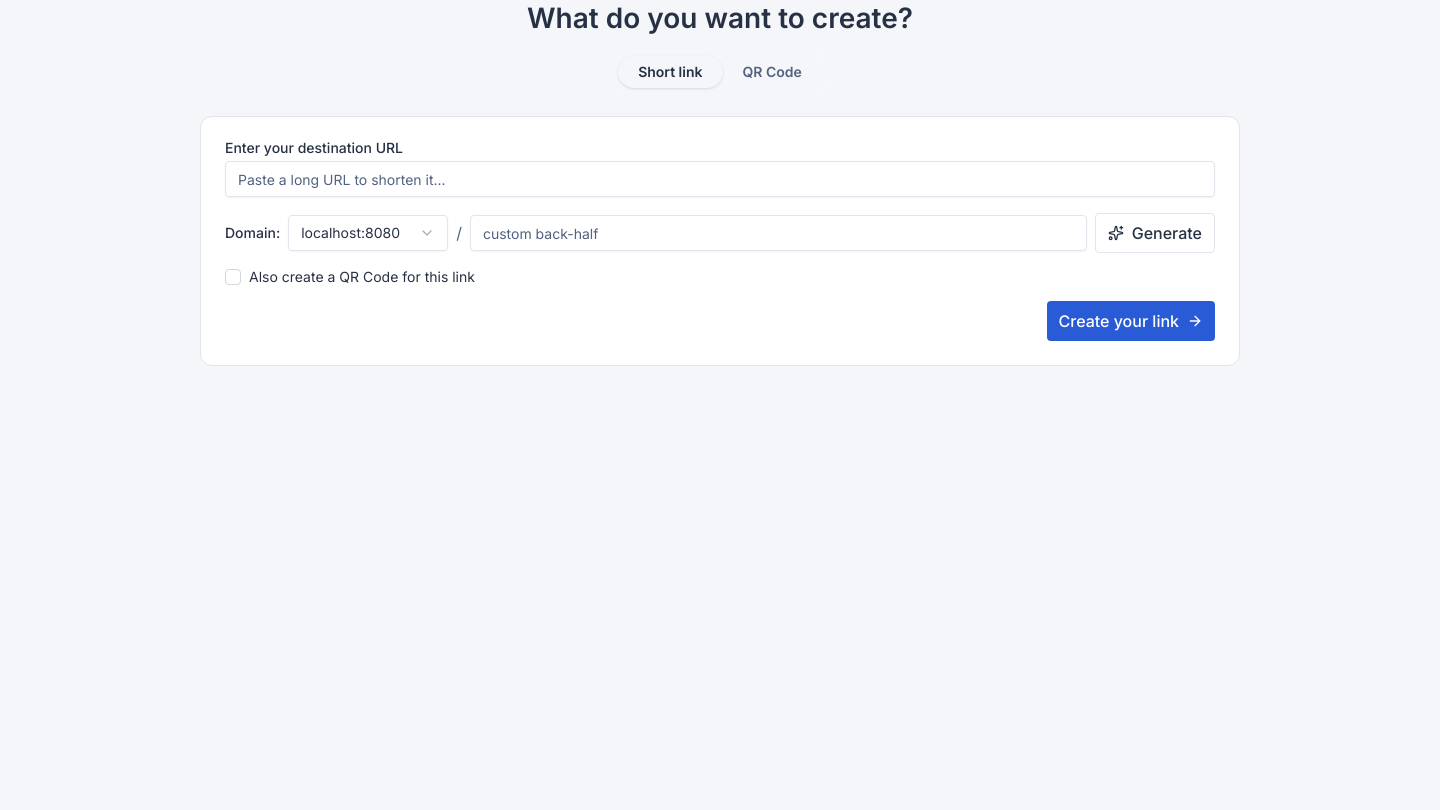
Test: QuickCreate › QR Code mode sends share_as_link when Also create a link is checked, Enter submits
The width and height of the screenshot is (1440, 810).
Click the radio button labelled "QR Code" at (772, 72), box [722,56,822,88]
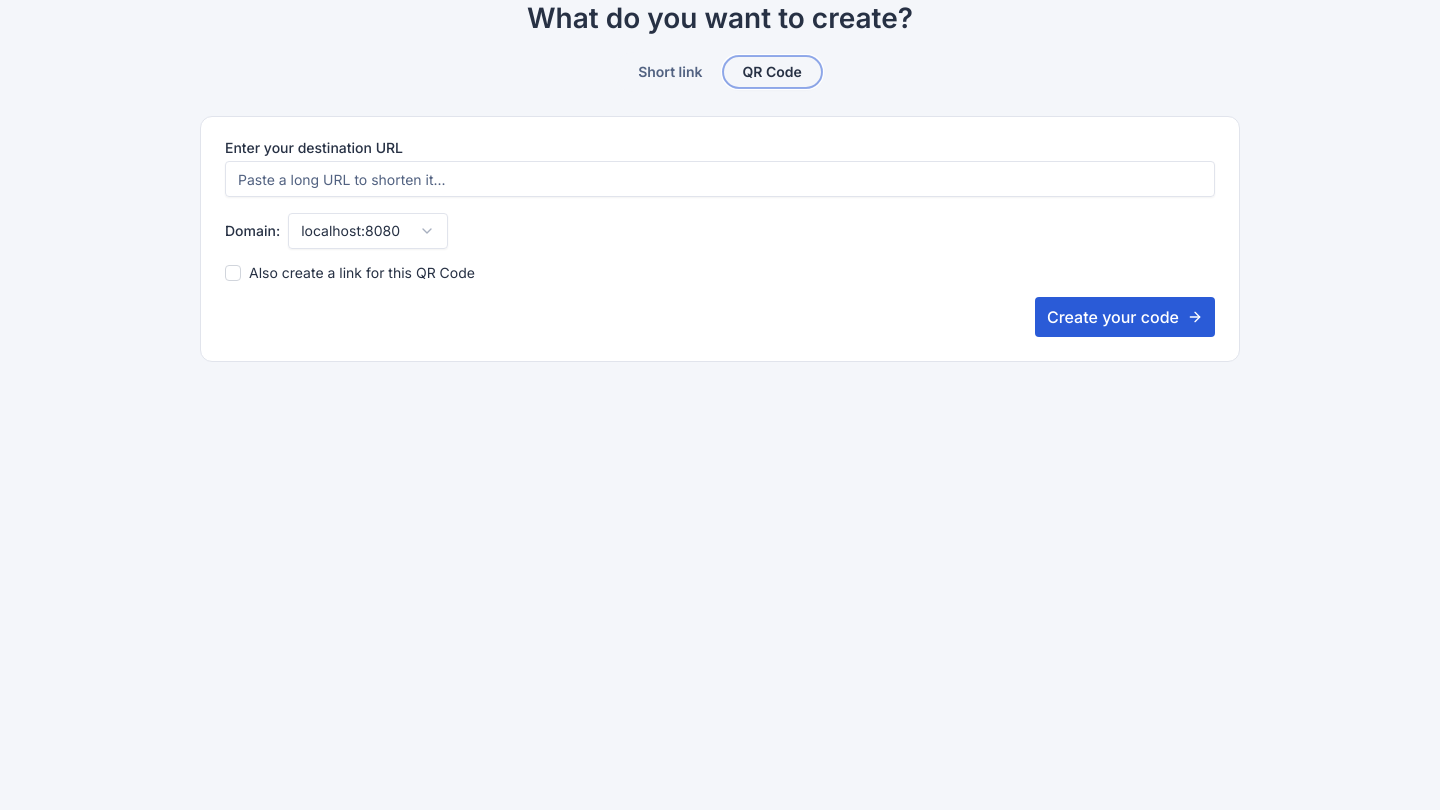
Click the checkbox named "Also create a link for this QR Code" at (233, 273), box [225,265,241,281]
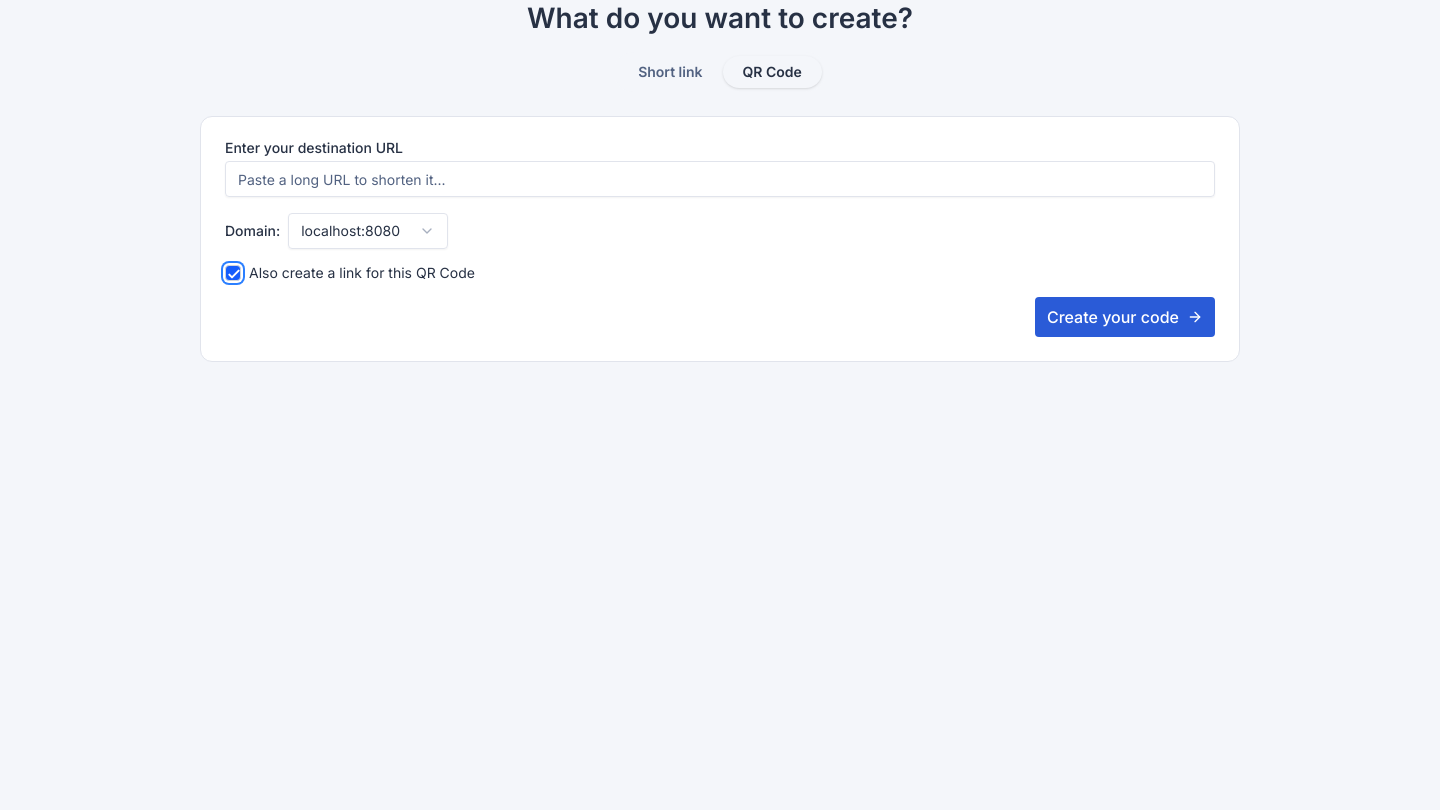
Type "https://example.com/s" into the field with placeholder "Paste a long URL to shorten it..." at (720, 179), box [225,161,1215,197]
Then press Enter
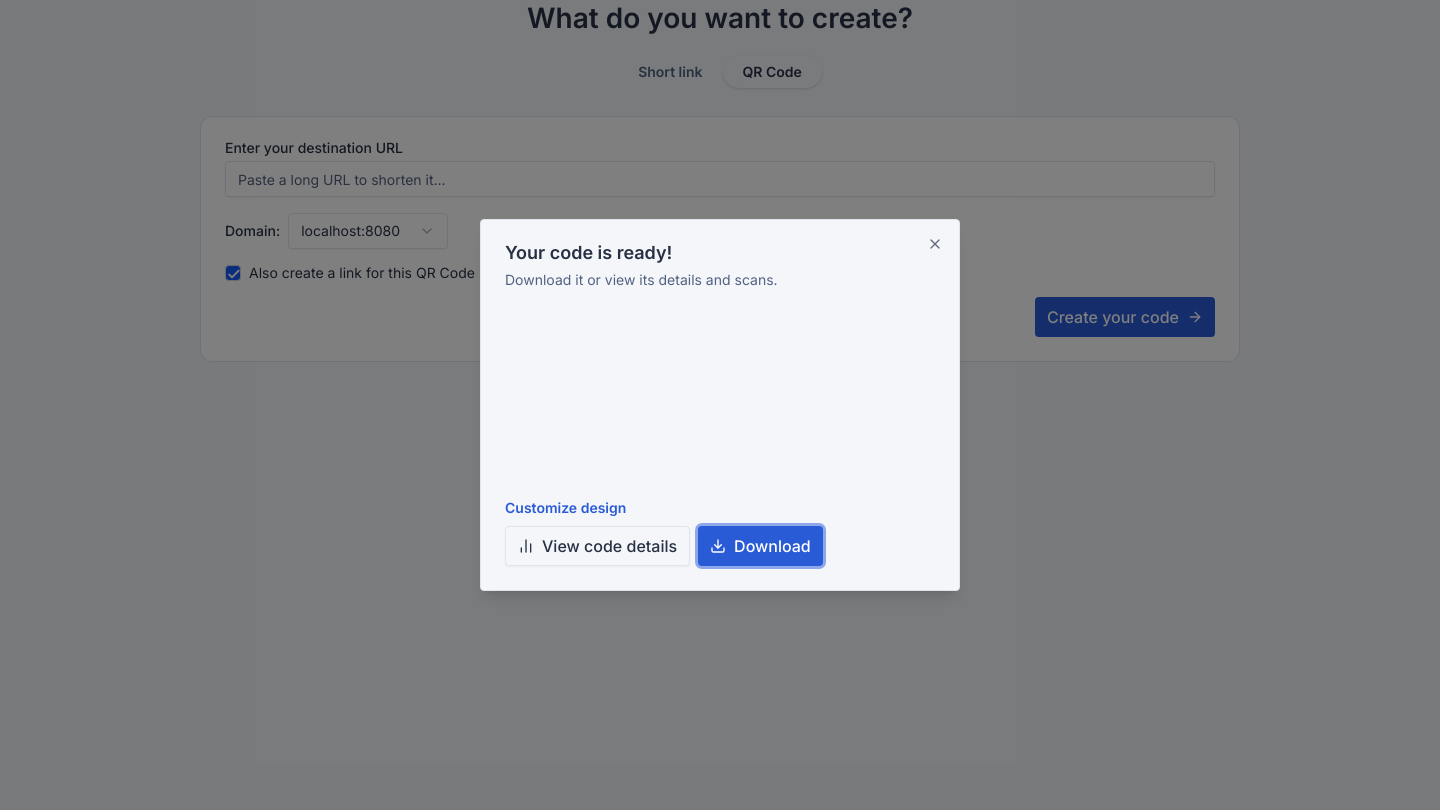
Expected: the heading "Your code is ready!" is shown, [505,242,672,263]
